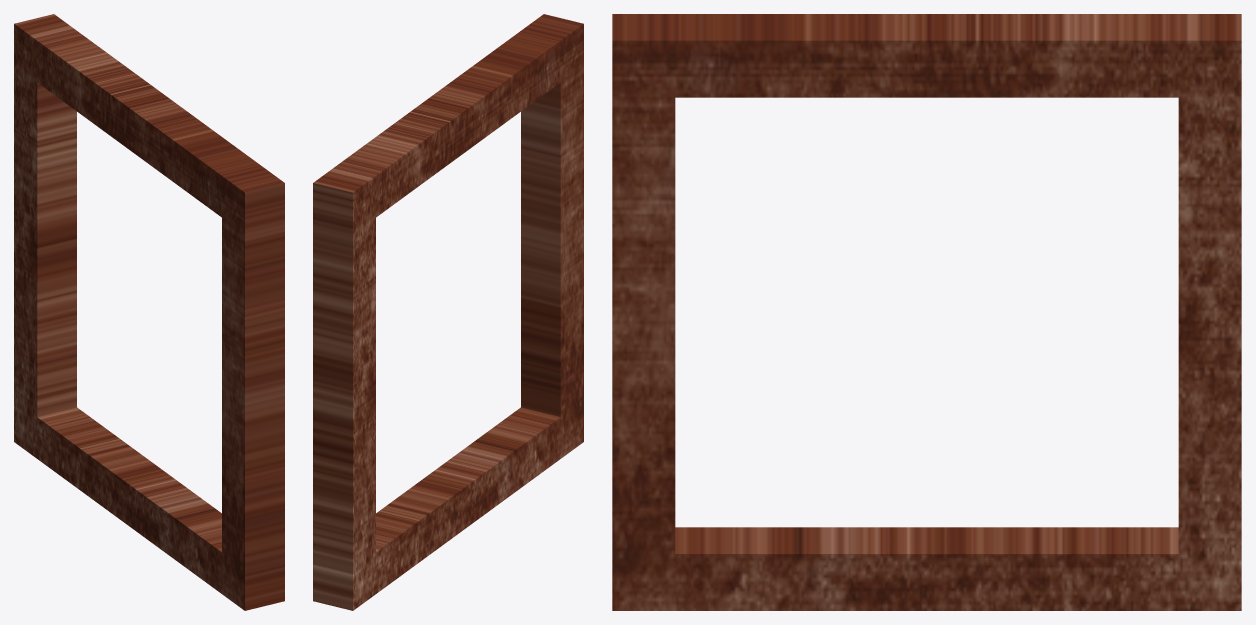
Rendered from TheOuterLevel.fbx_3x3_Bearing.fbx.
3 renders of one model, left to right at view 1: azimuth 30°, elevation 25°; view 2: azimuth 150°, elevation 25°; view 3: azimuth 270°, elevation 25°, orthographic. The views are drawn at different scales.
Parts seen in each view (by area): view 1: Bearing; view 2: Bearing; view 3: Bearing.
Part boxes in pixels (x1,y1,x2,y2): Bearing: (14, 14, 284, 610); Bearing: (313, 14, 583, 610); Bearing: (612, 14, 1241, 610).
Bounding box in the file's own units: 30 × 300 × 300.
Materials: 1 (1 with a texture image).
